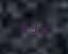five: (18, 18, 27, 33)
three: (29, 19, 38, 34), (39, 20, 48, 34)
